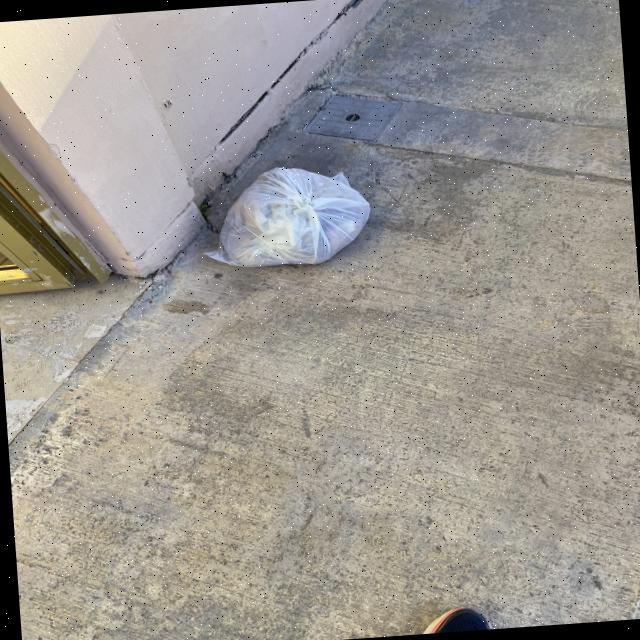Organic Waste: (198, 158, 380, 274)
